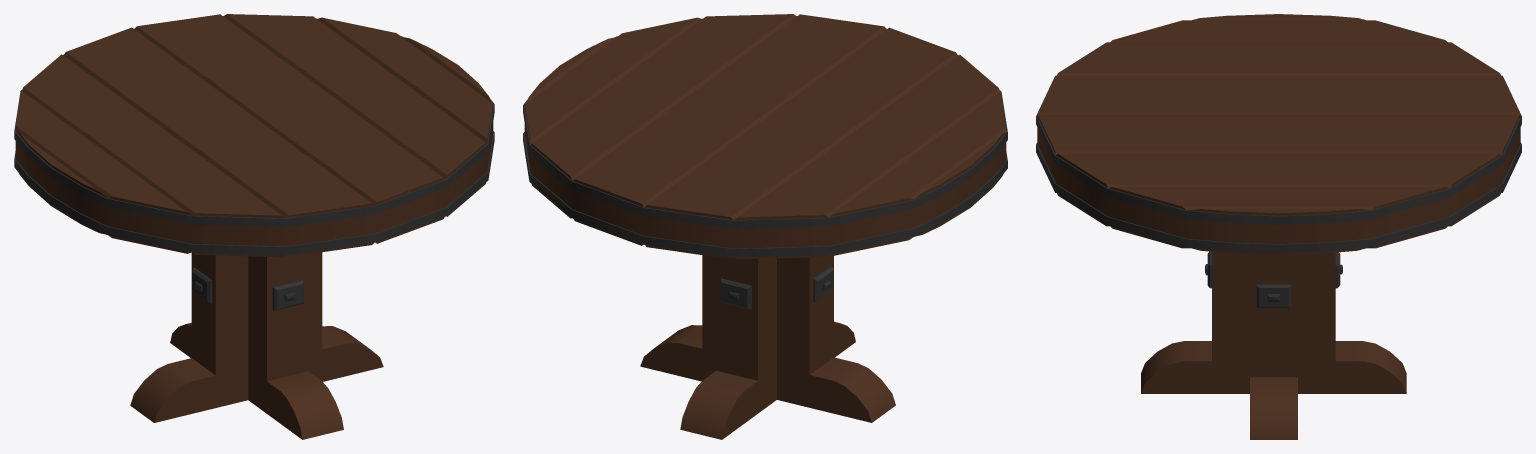
File: Table 1.fbx
3 views of the same model, side by side, from view 1: azimuth 30°, elevation 25°; view 2: azimuth 150°, elevation 25°; view 3: azimuth 270°, elevation 25° (orthographic).
Visible parts, largest first — view 1: Table.001; view 2: Table.001; view 3: Table.001.
Part boxes in pixels (x1,y1,x2,y2): Table.001: [14, 14, 494, 439]; Table.001: [523, 14, 1007, 439]; Table.001: [1036, 14, 1521, 439].
Bounding box in the file's own units: 279 × 175 × 285.
